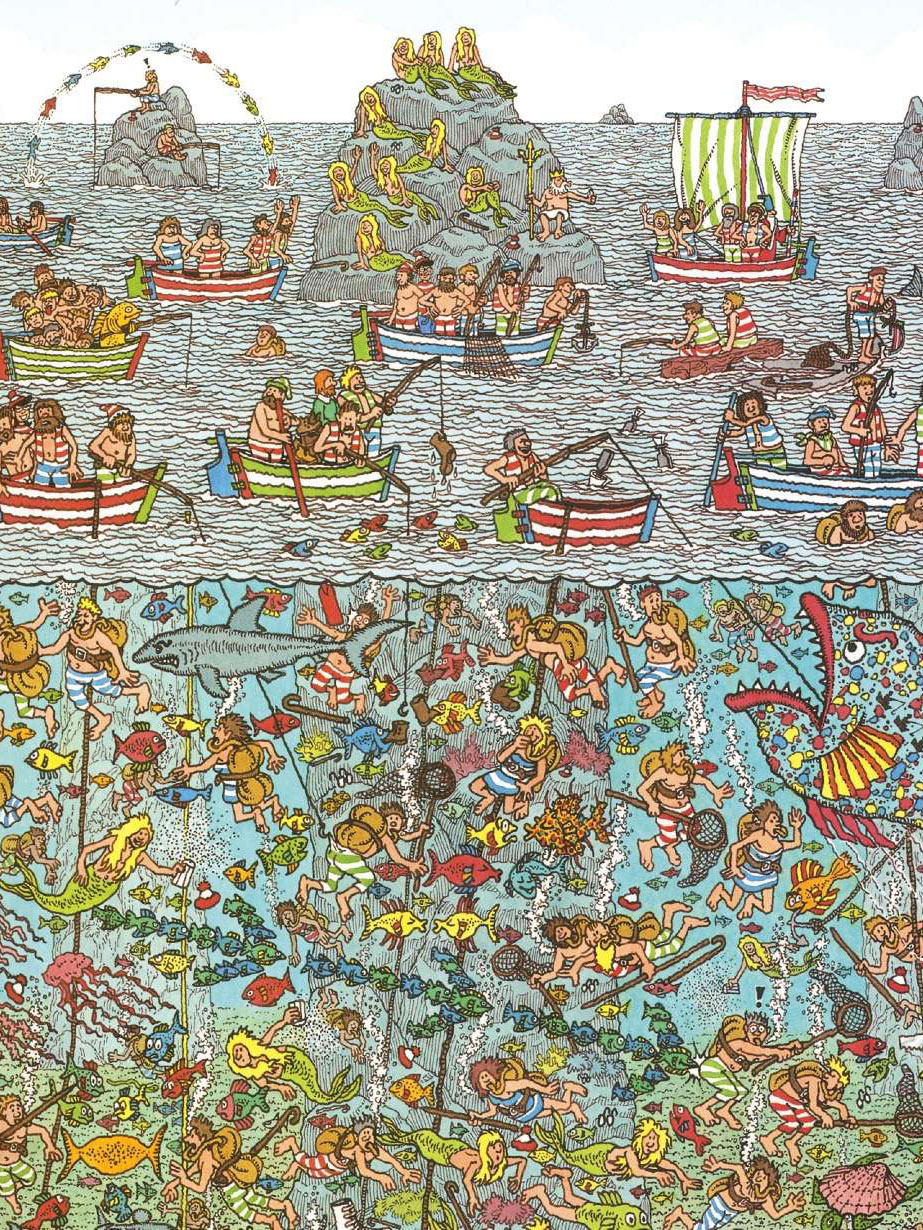waldo: (413, 249, 436, 288)
